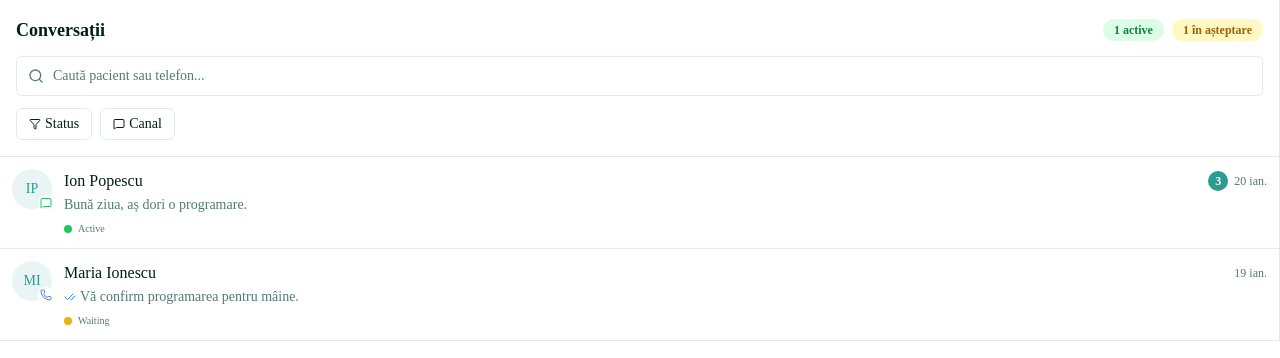
it: ConversationList › should filter by status
Click the button "Status" at (54, 124), box [16, 108, 92, 140]
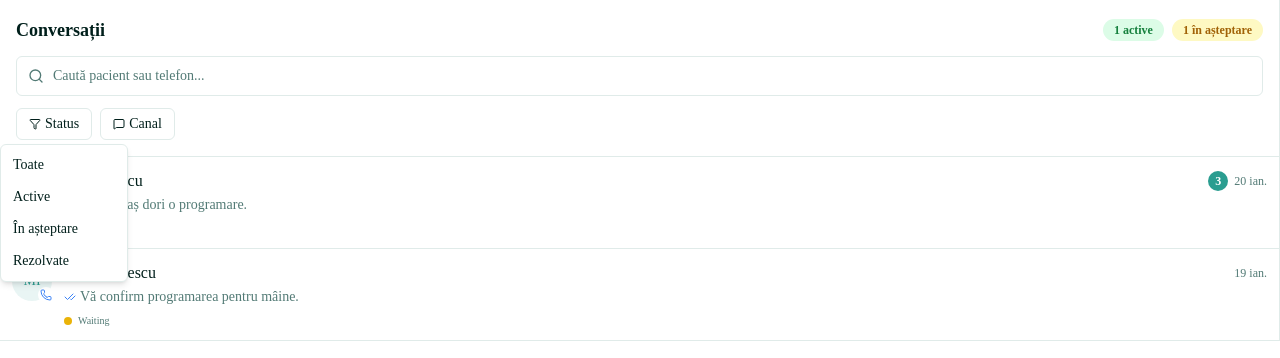
Expected: the menu item "Active" is shown
Click the menu item "Active" at (32, 196), box [13, 189, 50, 204]
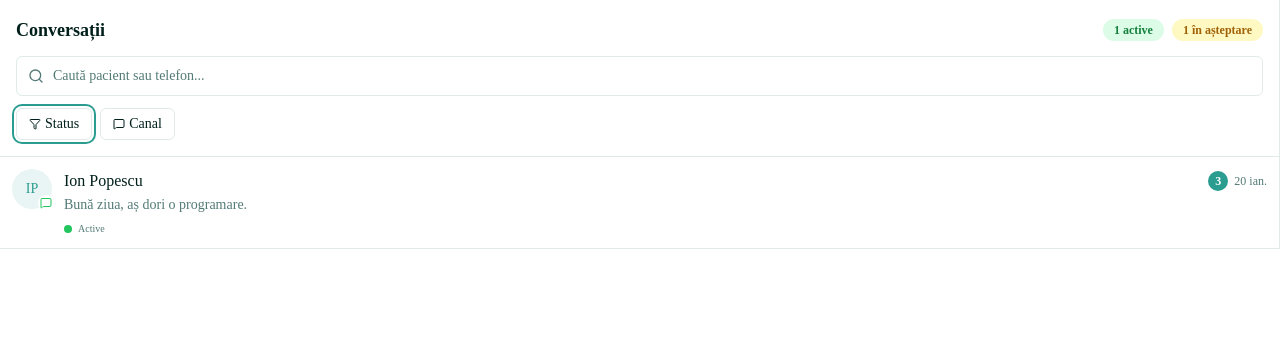
Expected: the text "Ion Popescu" is shown, [64, 169, 143, 193]
Expected: the text "Maria Ionescu" is gone
